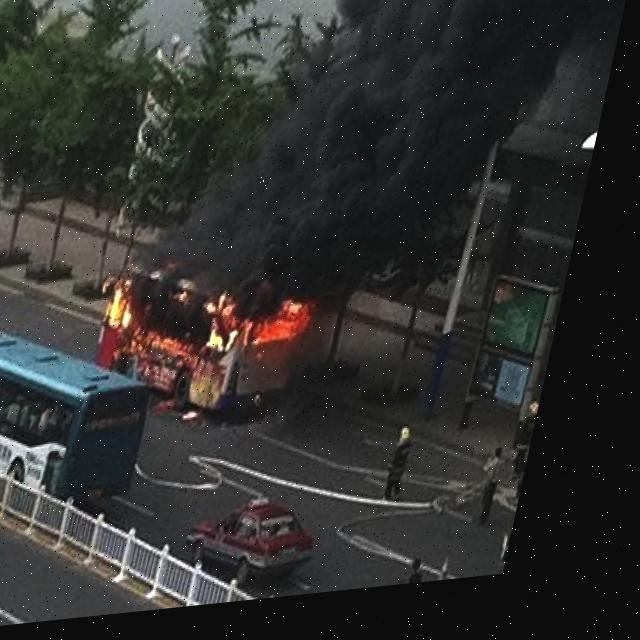Fire: (108, 242, 342, 376)
